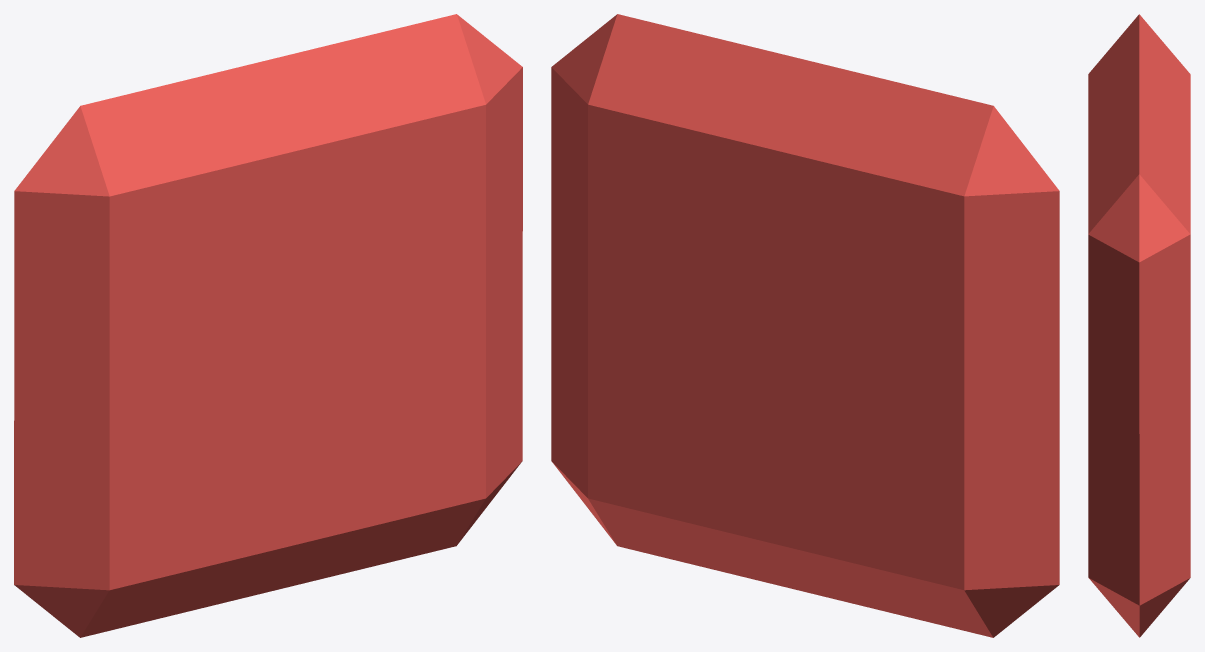
Rendered from pillow.obj.
3 renders of one model, left to right at view 1: azimuth 30°, elevation 25°; view 2: azimuth 150°, elevation 25°; view 3: azimuth 270°, elevation 25°, orthographic. The views are drawn at different scales.
Visible parts, largest first — view 1: pillow; view 2: pillow; view 3: pillow.
Boxes of the visible parts, x1,y1,x2,y2 form: pillow: (14, 14, 522, 637); pillow: (551, 14, 1059, 637); pillow: (1088, 14, 1190, 637).
Size of the model in its own units: 0.23 by 0.23 by 0.0461.
